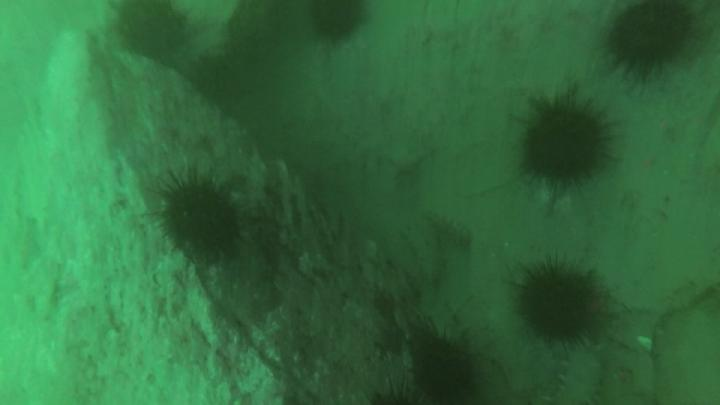echinus: (525, 106, 607, 184), (523, 270, 601, 346), (161, 185, 239, 260), (614, 3, 690, 73), (410, 335, 473, 403), (120, 4, 184, 59), (310, 2, 361, 42)
holothurian: (557, 351, 602, 405), (428, 212, 473, 248)
